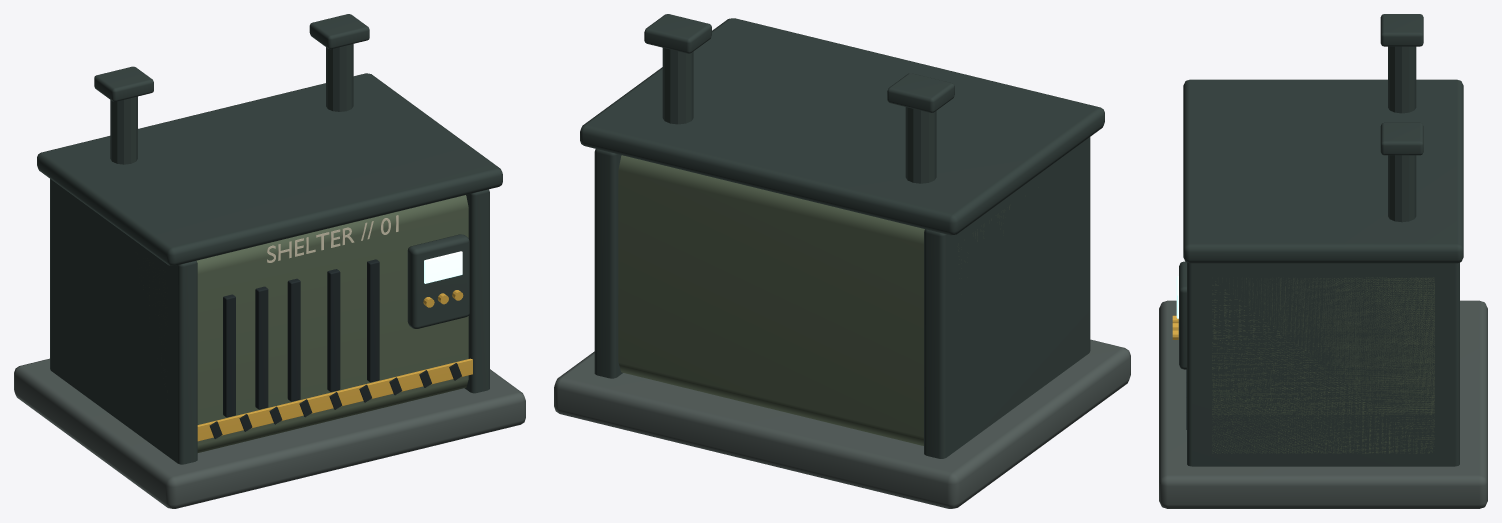
Rendered from CoreGenerator.fbx.
3 views of the same model, side by side, from view 1: azimuth 30°, elevation 25°; view 2: azimuth 150°, elevation 25°; view 3: azimuth 270°, elevation 25° (orthographic). The views are drawn at different scales.
Visible parts, largest first — view 1: CoreGeneratorMesh; view 2: CoreGeneratorMesh; view 3: CoreGeneratorMesh.
Part boxes in pixels (left/top/right/bottom): CoreGeneratorMesh: left=14, top=14, right=525, bottom=508; CoreGeneratorMesh: left=554, top=14, right=1130, bottom=508; CoreGeneratorMesh: left=1159, top=14, right=1487, bottom=508.
Bounding box in the file's own units: 300 × 265 × 230.
